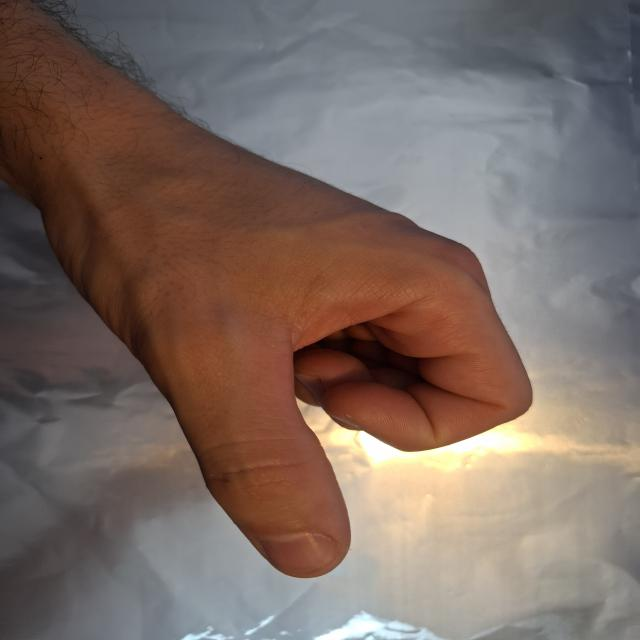glove_off: (24, 102, 536, 581)
